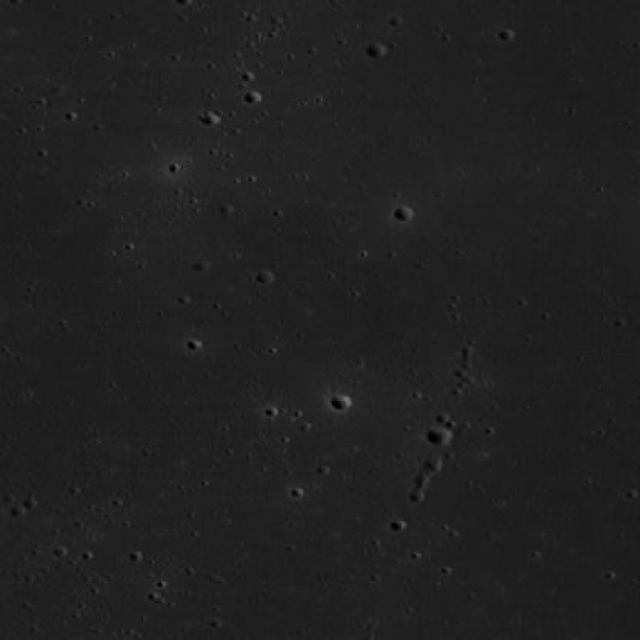crater: (426, 426, 452, 444), (330, 394, 350, 409)
